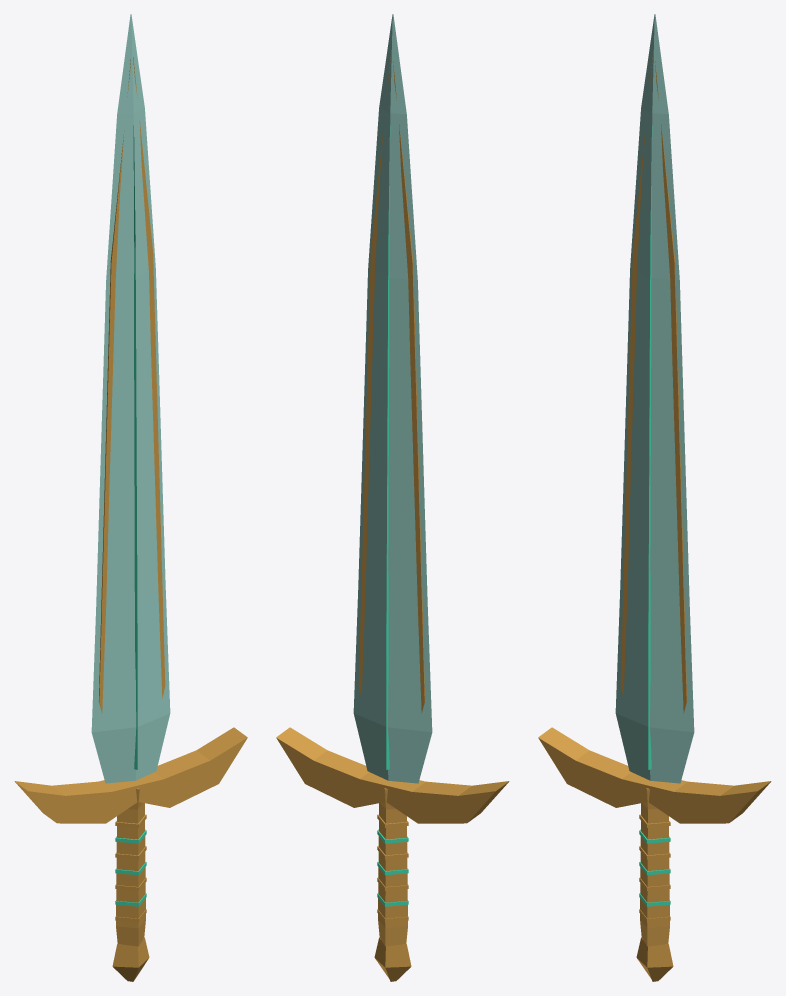
The model's file is PhiKiem_NguyenAnh.fbx.
3 views of the same model, side by side, from view 1: azimuth 30°, elevation 25°; view 2: azimuth 150°, elevation 25°; view 3: azimuth 330°, elevation 25° (orthographic).
Visible parts, largest first — view 1: PhiKiem_NguyenAnh; view 2: PhiKiem_NguyenAnh; view 3: PhiKiem_NguyenAnh.
Part boxes in pixels (x1=…): PhiKiem_NguyenAnh: x1=14, y1=14, x2=247, y2=981; PhiKiem_NguyenAnh: x1=276, y1=14, x2=509, y2=981; PhiKiem_NguyenAnh: x1=538, y1=14, x2=771, y2=981.
Size of the model in its own units: 38 by 160 by 4.8.
